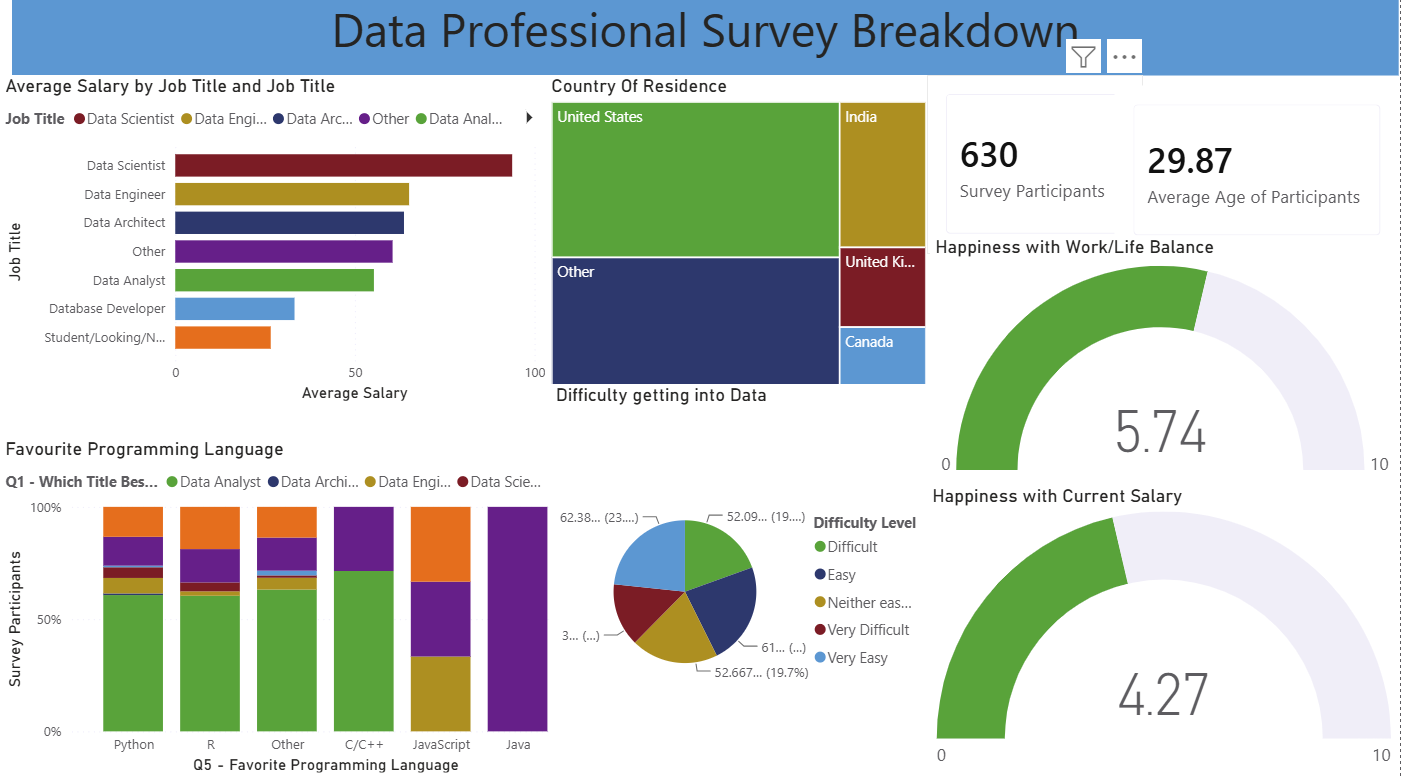

The dashboard page shown, as its layout file describes it:
{"tool":"powerbi","page":{"name":"Page 1","canvas":[1280,720],"ordinal":0},"visuals":[{"type":"textbox","box":[10.6,0,1268.9,77.2],"z":0},{"type":"barChart","fields":{"Category":["Data Professional Survey.Q1 - Which Title Best Fits your Current Role?.1"],"Y":["Avg(Data Professional Survey.Average Salary)"],"Series":["Data Professional Survey.Q1 - Which Title Best Fits your Current Role?.1"]},"box":[0,77.4,503.7,303.2],"z":1},{"type":"hundredPercentStackedColumnChart","title":"Favourite Programming Language","fields":{"Category":["Data Professional Survey.Q5 - Favorite Programming Language.1"],"Y":["CountNonNull(Data Professional Survey.Unique ID)"],"Series":["Data Professional Survey.Q1 - Which Title Best Fits your Current Role?.1"]},"box":[0,409,535.3,311.1],"z":2},{"type":"treemap","title":"Country Of Residence","fields":{"Group":["Data Professional Survey.Q11 - Which Country do you live in?.1"],"Values":["CountNonNull(Data Professional Survey.Q11 - Which Country do you live in?.1)"]},"box":[499,77.4,352.1,293.7],"z":3},{"type":"cardVisual","fields":{"Data":["CountNonNull(Data Professional Survey.Unique ID)"]},"box":[847.9,77.4,197.4,162.6],"z":4},{"type":"cardVisual","fields":{"Data":["Avg(Data Professional Survey.Q10 - Current Age)"]},"box":[1020,86.8,260.5,154.7],"z":5},{"type":"gauge","title":"Happiness with Work/Life Balance","fields":{"Y":["Avg(Data Professional Survey.Q6 - How Happy are you in your Current Position with the following? (Work/Life Balance))"],"MinValue":["Min(Data Professional Survey.Q6 - How Happy are you in your Current Position with the following? (Work/Life Balance))"],"MaxValue":["Max(Data Professional Survey.Q6 - How Happy are you in your Current Position with the following? (Work/Life Balance))"]},"box":[851.1,224.2,429.5,227.4],"z":6},{"type":"gauge","title":"Happiness with Current Salary","fields":{"Y":["Avg(Data Professional Survey.Q6 - How Happy are you in your Current Position with the following? (Salary))"],"MaxValue":["Max(Data Professional Survey.Q6 - How Happy are you in your Current Position with the following? (Salary))"],"MinValue":["Min(Data Professional Survey.Q6 - How Happy are you in your Current Position with the following? (Salary))"]},"box":[847.9,451.6,432.6,268.4],"z":7},{"type":"pieChart","title":"Difficulty getting into Data","fields":{"Y":["Avg(Data Professional Survey.Average Salary)"],"Series":["Data Professional Survey.Q7 - How difficult was it for you to break into Data?"]},"box":[503.7,360,347.4,360],"z":8}]}

Visuals, with their boxes in screenshot pixels (x1, y1, x2, y2), scaled from the page's 1280x720 canvas onto the 1401x778 screenshot:
textbox: l=12, t=0, r=1400, b=83
barChart - Data Professional Survey.Q1 - Which Title Best Fits your Current Role?.1 x Avg(Data Professional Survey.Average Salary): l=0, t=84, r=551, b=411
"Favourite Programming Language" hundredPercentStackedColumnChart: l=0, t=442, r=586, b=777
"Country Of Residence" treemap: l=546, t=84, r=932, b=401
cardVisual - CountNonNull(Data Professional Survey.Unique ID): l=928, t=84, r=1144, b=259
cardVisual - Avg(Data Professional Survey.Q10 - Current Age): l=1116, t=94, r=1400, b=261
"Happiness with Work/Life Balance" gauge: l=932, t=242, r=1400, b=488
"Happiness with Current Salary" gauge: l=928, t=488, r=1400, b=777
"Difficulty getting into Data" pieChart: l=551, t=389, r=932, b=777
